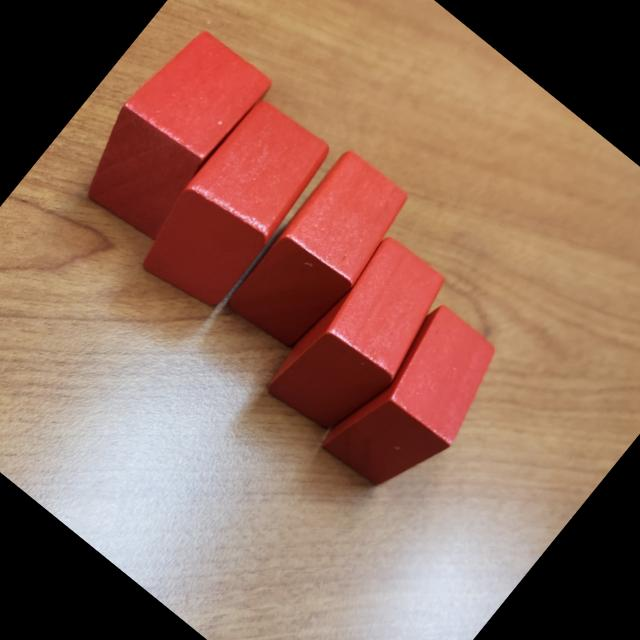red: (63, 18, 280, 248), (126, 90, 341, 322), (261, 230, 466, 448), (221, 145, 422, 363), (316, 296, 518, 510)
